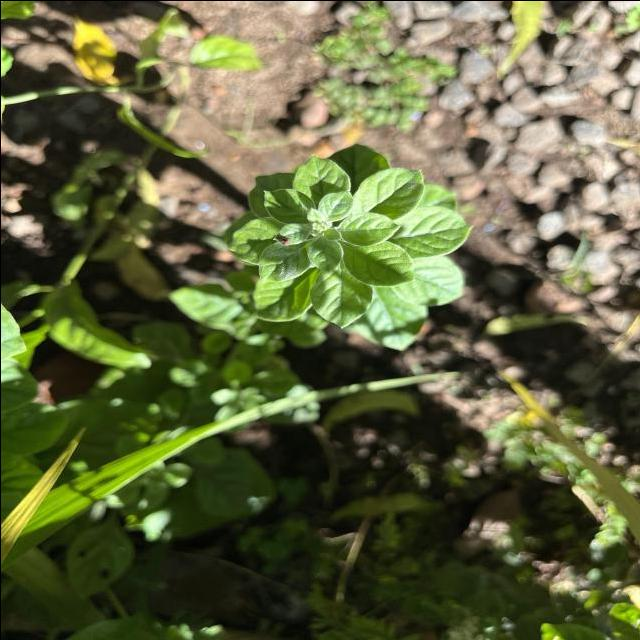Aerva lanata: (305, 262, 374, 330), (350, 165, 426, 223), (342, 238, 419, 290), (255, 236, 308, 284), (258, 184, 314, 225)
